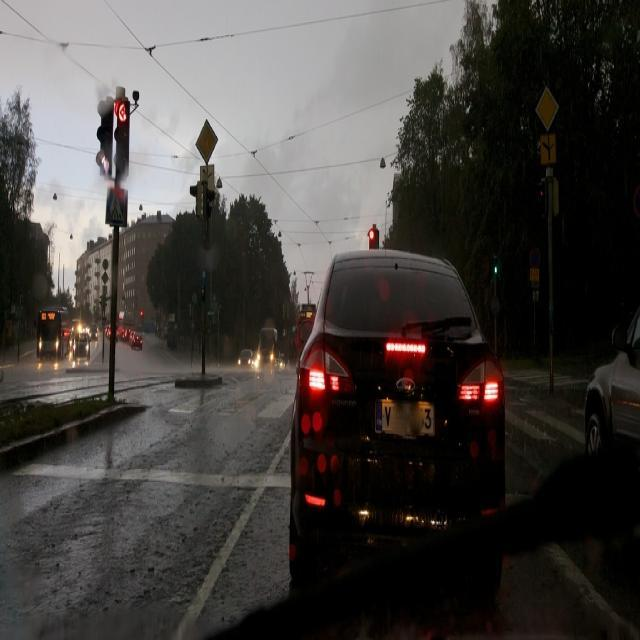off traffic light: (190, 178, 201, 217)
traffic light: (94, 98, 114, 181), (114, 100, 131, 185), (367, 227, 377, 249)
